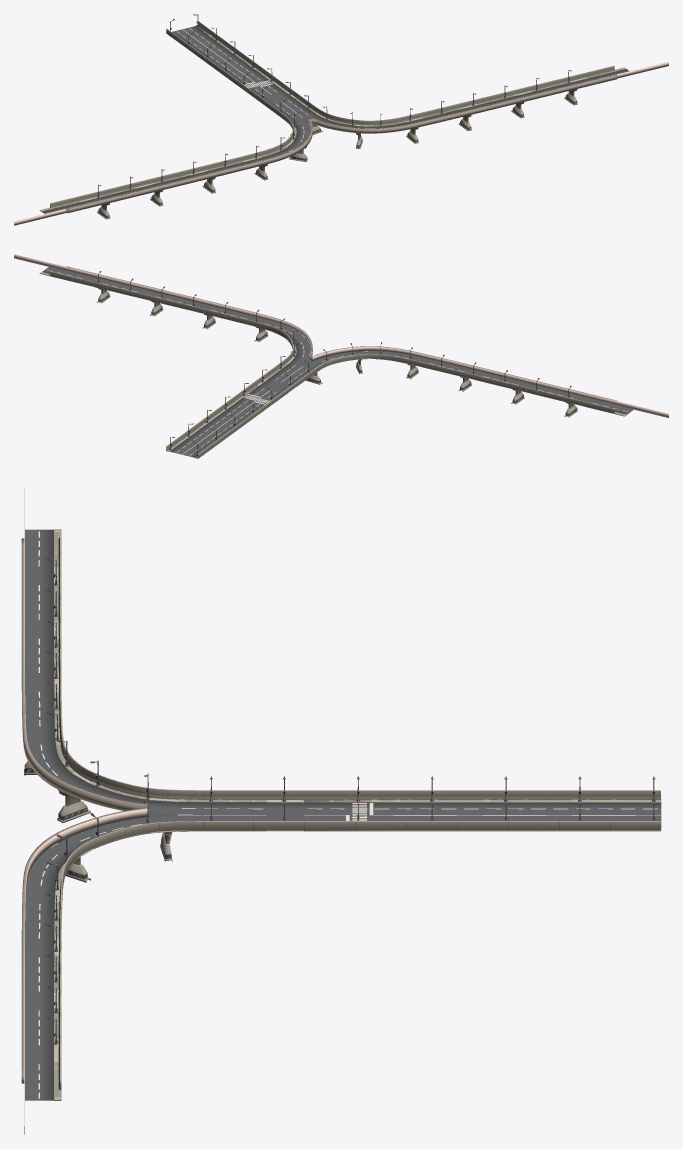
File: Level_04_Bridge.fbx
3 renders of one model, top to bottom at view 1: azimuth 30°, elevation 25°; view 2: azimuth 150°, elevation 25°; view 3: azimuth 270°, elevation 25°, orthographic. The views are drawn at different scales.
Visible parts, largest first — view 1: Road_1O.001, Road_1O.002, Road_1O.004, Highway_1A.002, Road_1O.003, Streetlight_3A.005; view 2: Road_1O.001, Road_1O.002, Road_1O.003, Highway_1A.002, Road_1O.004, Streetlight_3A.005; view 3: Road_1O.001, Road_1O.002, Road_1O.004, Streetlight_3A.005, Road_1O.003, Highway_1A.002.
Part boxes in pixels (<box>): Road_1O.001: <box>39,25,629,213</box>; Road_1O.002: <box>50,21,614,207</box>; Road_1O.004: <box>66,74,617,213</box>; Highway_1A.002: <box>97,89,577,219</box>; Road_1O.003: <box>14,61,668,225</box>; Streetlight_3A.005: <box>97,14,571,197</box>; Road_1O.001: <box>39,267,633,458</box>; Road_1O.002: <box>50,271,614,458</box>; Road_1O.003: <box>14,254,668,417</box>; Highway_1A.002: <box>97,288,577,417</box>; Road_1O.004: <box>67,266,616,400</box>; Streetlight_3A.005: <box>98,271,571,456</box>; Road_1O.001: <box>25,529,661,1100</box>; Road_1O.002: <box>58,530,660,1089</box>; Road_1O.004: <box>21,538,147,1083</box>; Streetlight_3A.005: <box>45,557,655,1044</box>; Road_1O.003: <box>24,487,147,1134</box>; Highway_1A.002: <box>24,761,172,887</box>.
Size of what is drawn, in the model's own units: 12374 by 534 by 5236.
